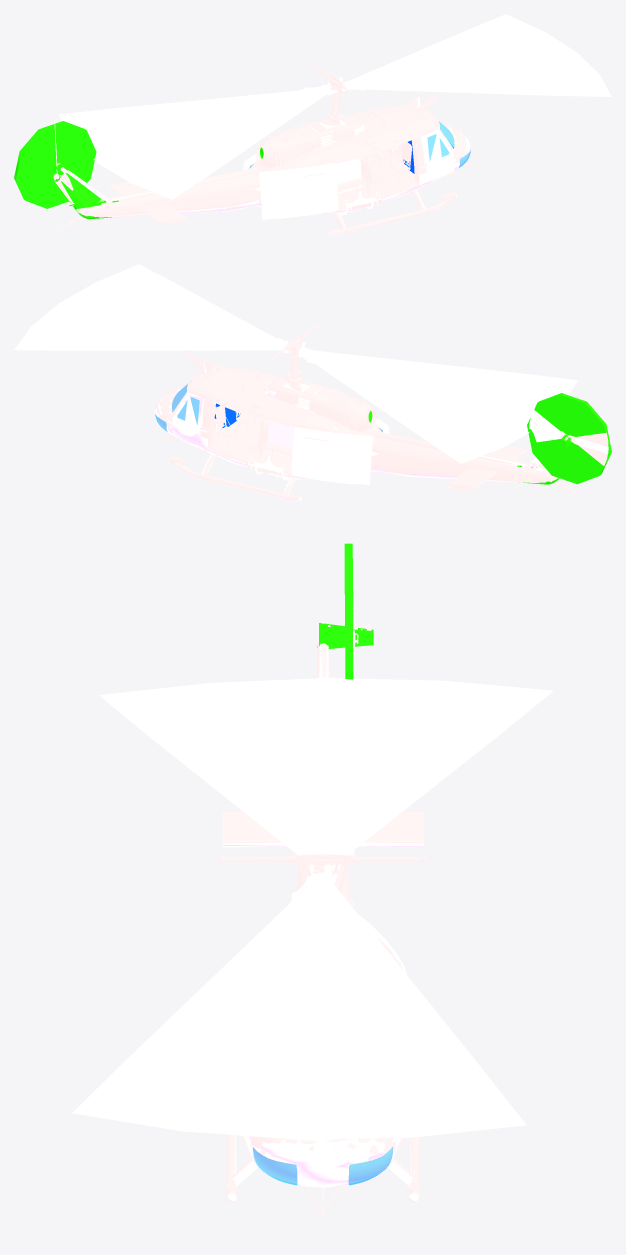
3 views of the same model, one above another, from view 1: azimuth 30°, elevation 25°; view 2: azimuth 150°, elevation 25°; view 3: azimuth 270°, elevation 25° (orthographic). The views are drawn at different scales.
Visible parts, largest first — view 1: Heli5_6, Heli5, Heli5_2, SM_UH1H_RearEngine_Col_89, Heli5_1, SM_UH1H_Col, Heli5_3, Heli5_5, Heli5_4, SM_UH1H_Col_1, Heli5_7; view 2: Heli5_6, Heli5, Heli5_2, Heli5_1, SM_UH1H_RearEngine_Col_89, SM_UH1H_Col, Heli5_3, Heli5_5, Heli5_4, SM_UH1H_Col_1, Heli5_7; view 3: Heli5_6, Heli5_2, SM_UH1H_Col, Heli5, SM_UH1H_RearEngine_Col_89, SM_UH1H_Col_1, Heli5_5, Heli5_1.
Part boxes in pixels (box(x1,y1,x2,y2)): Heli5_6: box(15, 14, 611, 199); Heli5: box(53, 117, 459, 224); Heli5_2: box(54, 46, 575, 234); SM_UH1H_RearEngine_Col_89: box(14, 121, 118, 219); Heli5_1: box(250, 106, 468, 212); SM_UH1H_Col: box(58, 97, 470, 235); Heli5_3: box(245, 139, 418, 208); Heli5_5: box(268, 104, 469, 198); Heli5_4: box(337, 142, 411, 200); SM_UH1H_Col_1: box(249, 121, 470, 168); Heli5_7: box(339, 191, 380, 215); Heli5_6: box(14, 264, 608, 465); Heli5: box(172, 379, 557, 489); Heli5_2: box(51, 304, 608, 500); Heli5_1: box(156, 368, 382, 479); SM_UH1H_RearEngine_Col_89: box(517, 393, 611, 484); SM_UH1H_Col: box(155, 361, 548, 501); Heli5_3: box(209, 402, 387, 473); Heli5_5: box(156, 366, 363, 463); Heli5_4: box(213, 405, 292, 465); SM_UH1H_Col_1: box(155, 384, 382, 431); Heli5_7: box(248, 456, 290, 480); Heli5_6: box(72, 572, 553, 1139); Heli5_2: box(220, 530, 426, 1240); SM_UH1H_Col: box(222, 644, 423, 1202); Heli5: box(222, 641, 423, 1150); SM_UH1H_RearEngine_Col_89: box(317, 543, 373, 679); SM_UH1H_Col_1: box(253, 1147, 392, 1185); Heli5_5: box(253, 1147, 392, 1183); Heli5_1: box(251, 938, 402, 1184).
Size of the model in its own units: 16.92 by 4.72 by 6.42.
